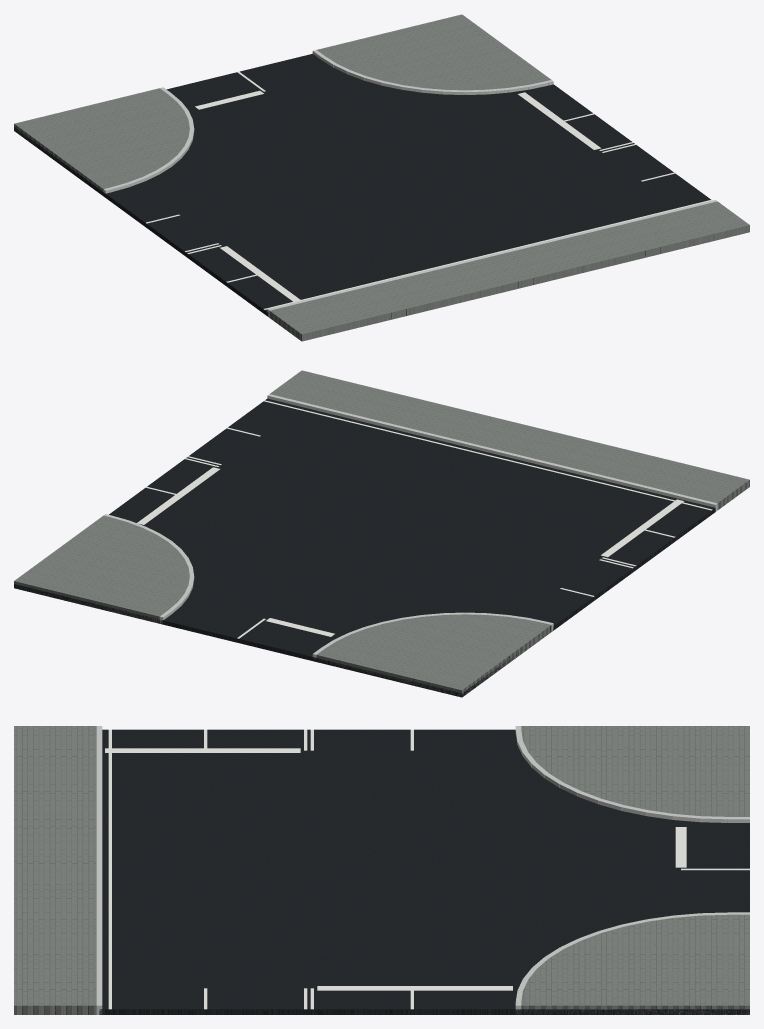
File: RK3_Tee_4x2_24x32m.fbx
3 renders of one model, top to bottom at view 1: azimuth 30°, elevation 25°; view 2: azimuth 150°, elevation 25°; view 3: azimuth 270°, elevation 25°, orthographic. The views are drawn at different scales.
Visible parts, largest first — view 1: COL_Asphalt.001, COL_Paving.001, Markings_White.001, COL_Concrete.001, Curb_Concrete.001; view 2: COL_Asphalt.001, COL_Paving.001, COL_Concrete.001, Markings_White.001, Curb_Concrete.001; view 3: COL_Asphalt.001, COL_Paving.001, Markings_White.001, COL_Concrete.001, Curb_Concrete.001.
Boxes of the visible parts, box(x1,y1,x2,y2) form: COL_Asphalt.001: box(14, 53, 710, 316); COL_Paving.001: box(14, 14, 749, 341); Markings_White.001: box(146, 71, 712, 309); COL_Concrete.001: box(103, 50, 716, 317); Curb_Concrete.001: box(104, 53, 717, 310); COL_Asphalt.001: box(14, 398, 715, 697); COL_Paving.001: box(14, 370, 749, 697); COL_Concrete.001: box(107, 394, 717, 659); Markings_White.001: box(137, 400, 712, 638); Curb_Concrete.001: box(104, 394, 716, 653); COL_Asphalt.001: box(99, 729, 749, 1014); COL_Paving.001: box(14, 726, 749, 1014); Markings_White.001: box(105, 729, 749, 1009); COL_Concrete.001: box(96, 726, 749, 1014); Curb_Concrete.001: box(96, 726, 749, 1005).
Bounding box in the file's own units: 2400 × 37 × 2670.
4 materials, 2 textured.
